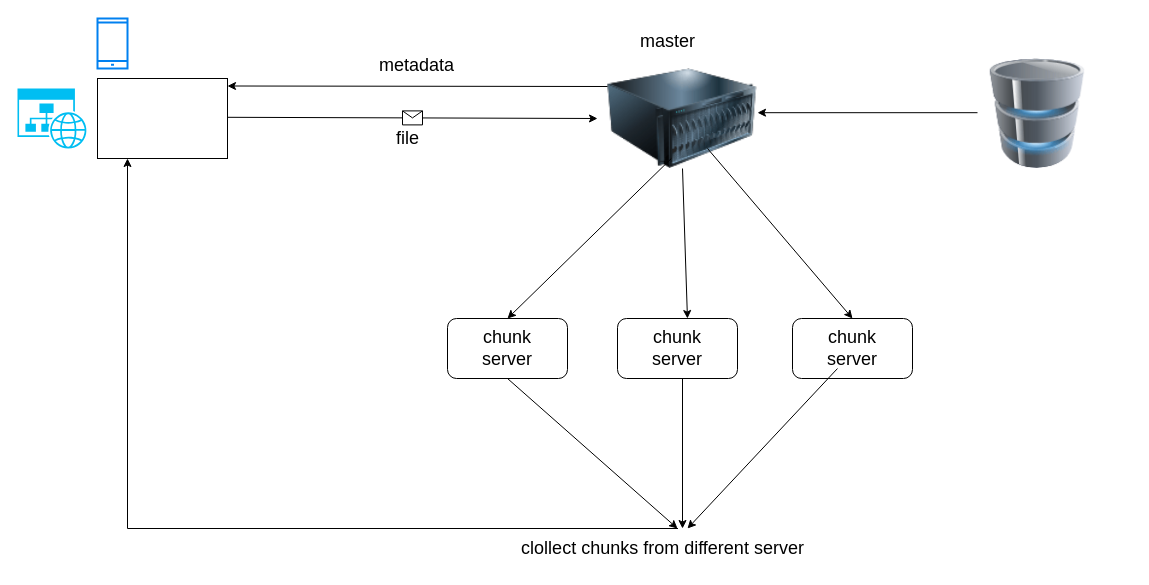
This 1149x585 diagram has some shape labels left out. The centre of each missing label's shape, as x and y in pixels:
DB: (1037,113)
DFS Client: (162,118)
